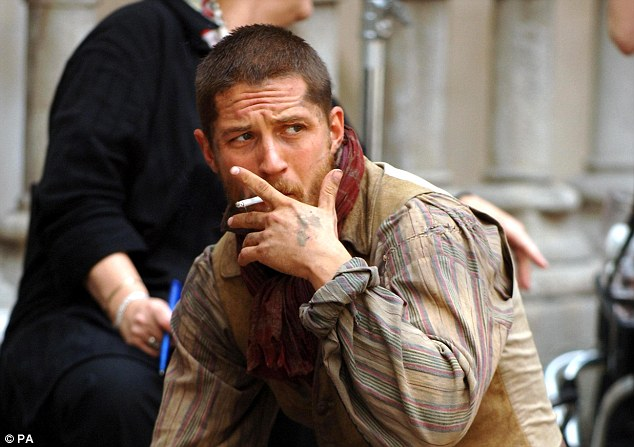cigarette: (229, 188, 275, 218)
